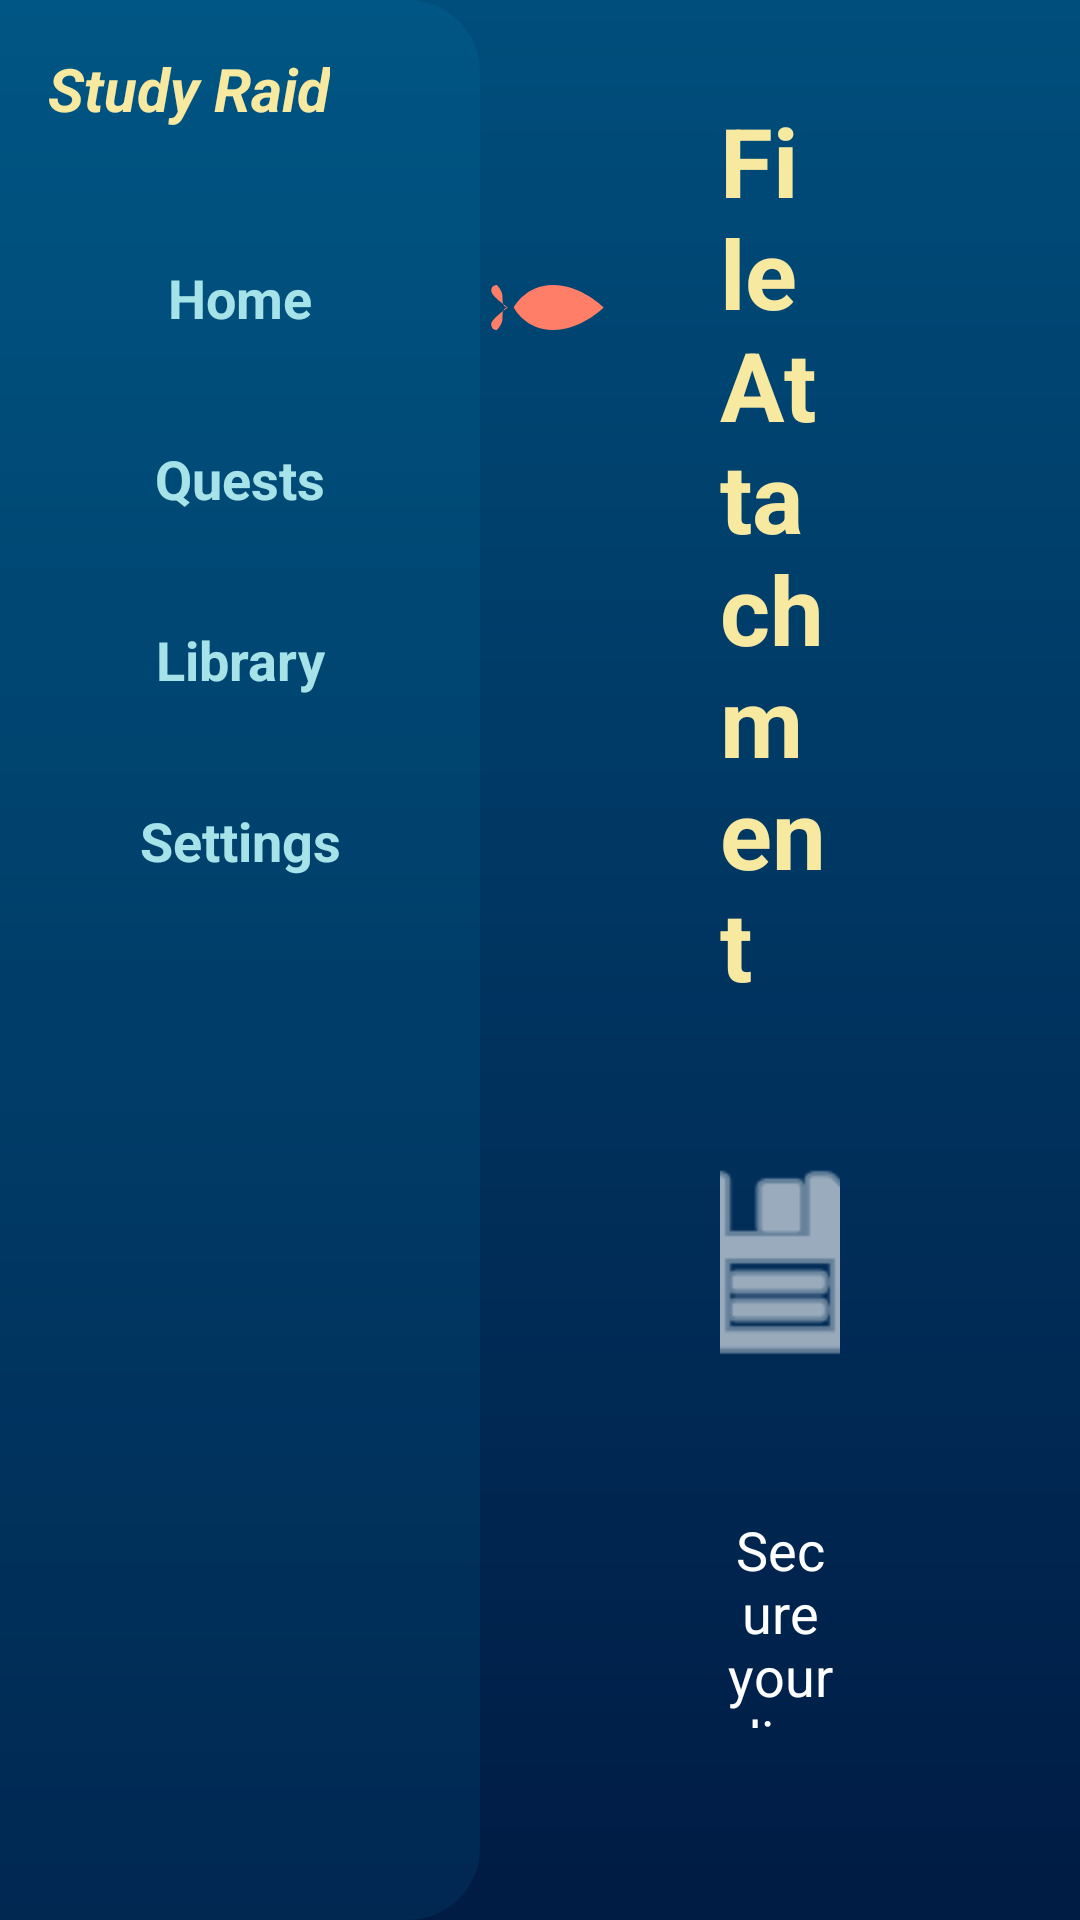

Icons on this 1080×1920 Android screen, each with its box as Rect(x1, y1, x2, y2):
Swimming Fish: Rect(491, 285, 604, 330)
